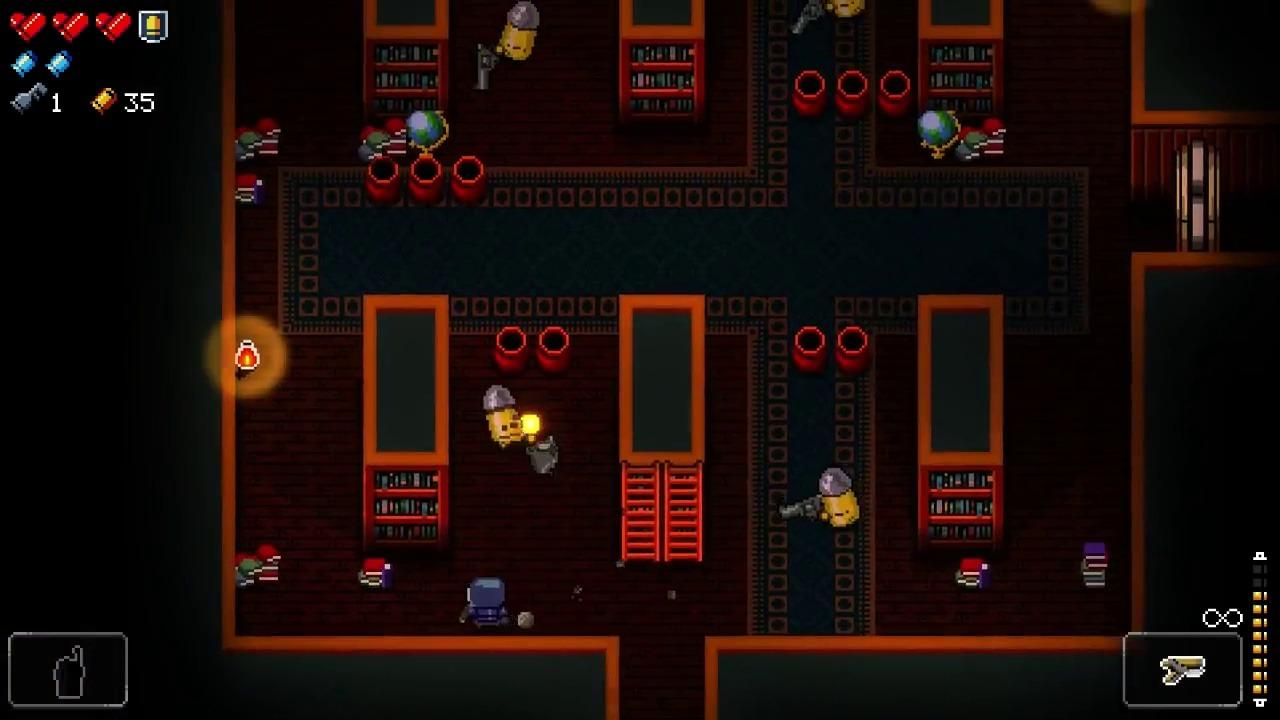bullet_kin: (482, 384, 523, 451), (499, 1, 539, 63), (819, 468, 859, 529)
locked_door: (1175, 140, 1220, 254)
player: (469, 577, 506, 631)
